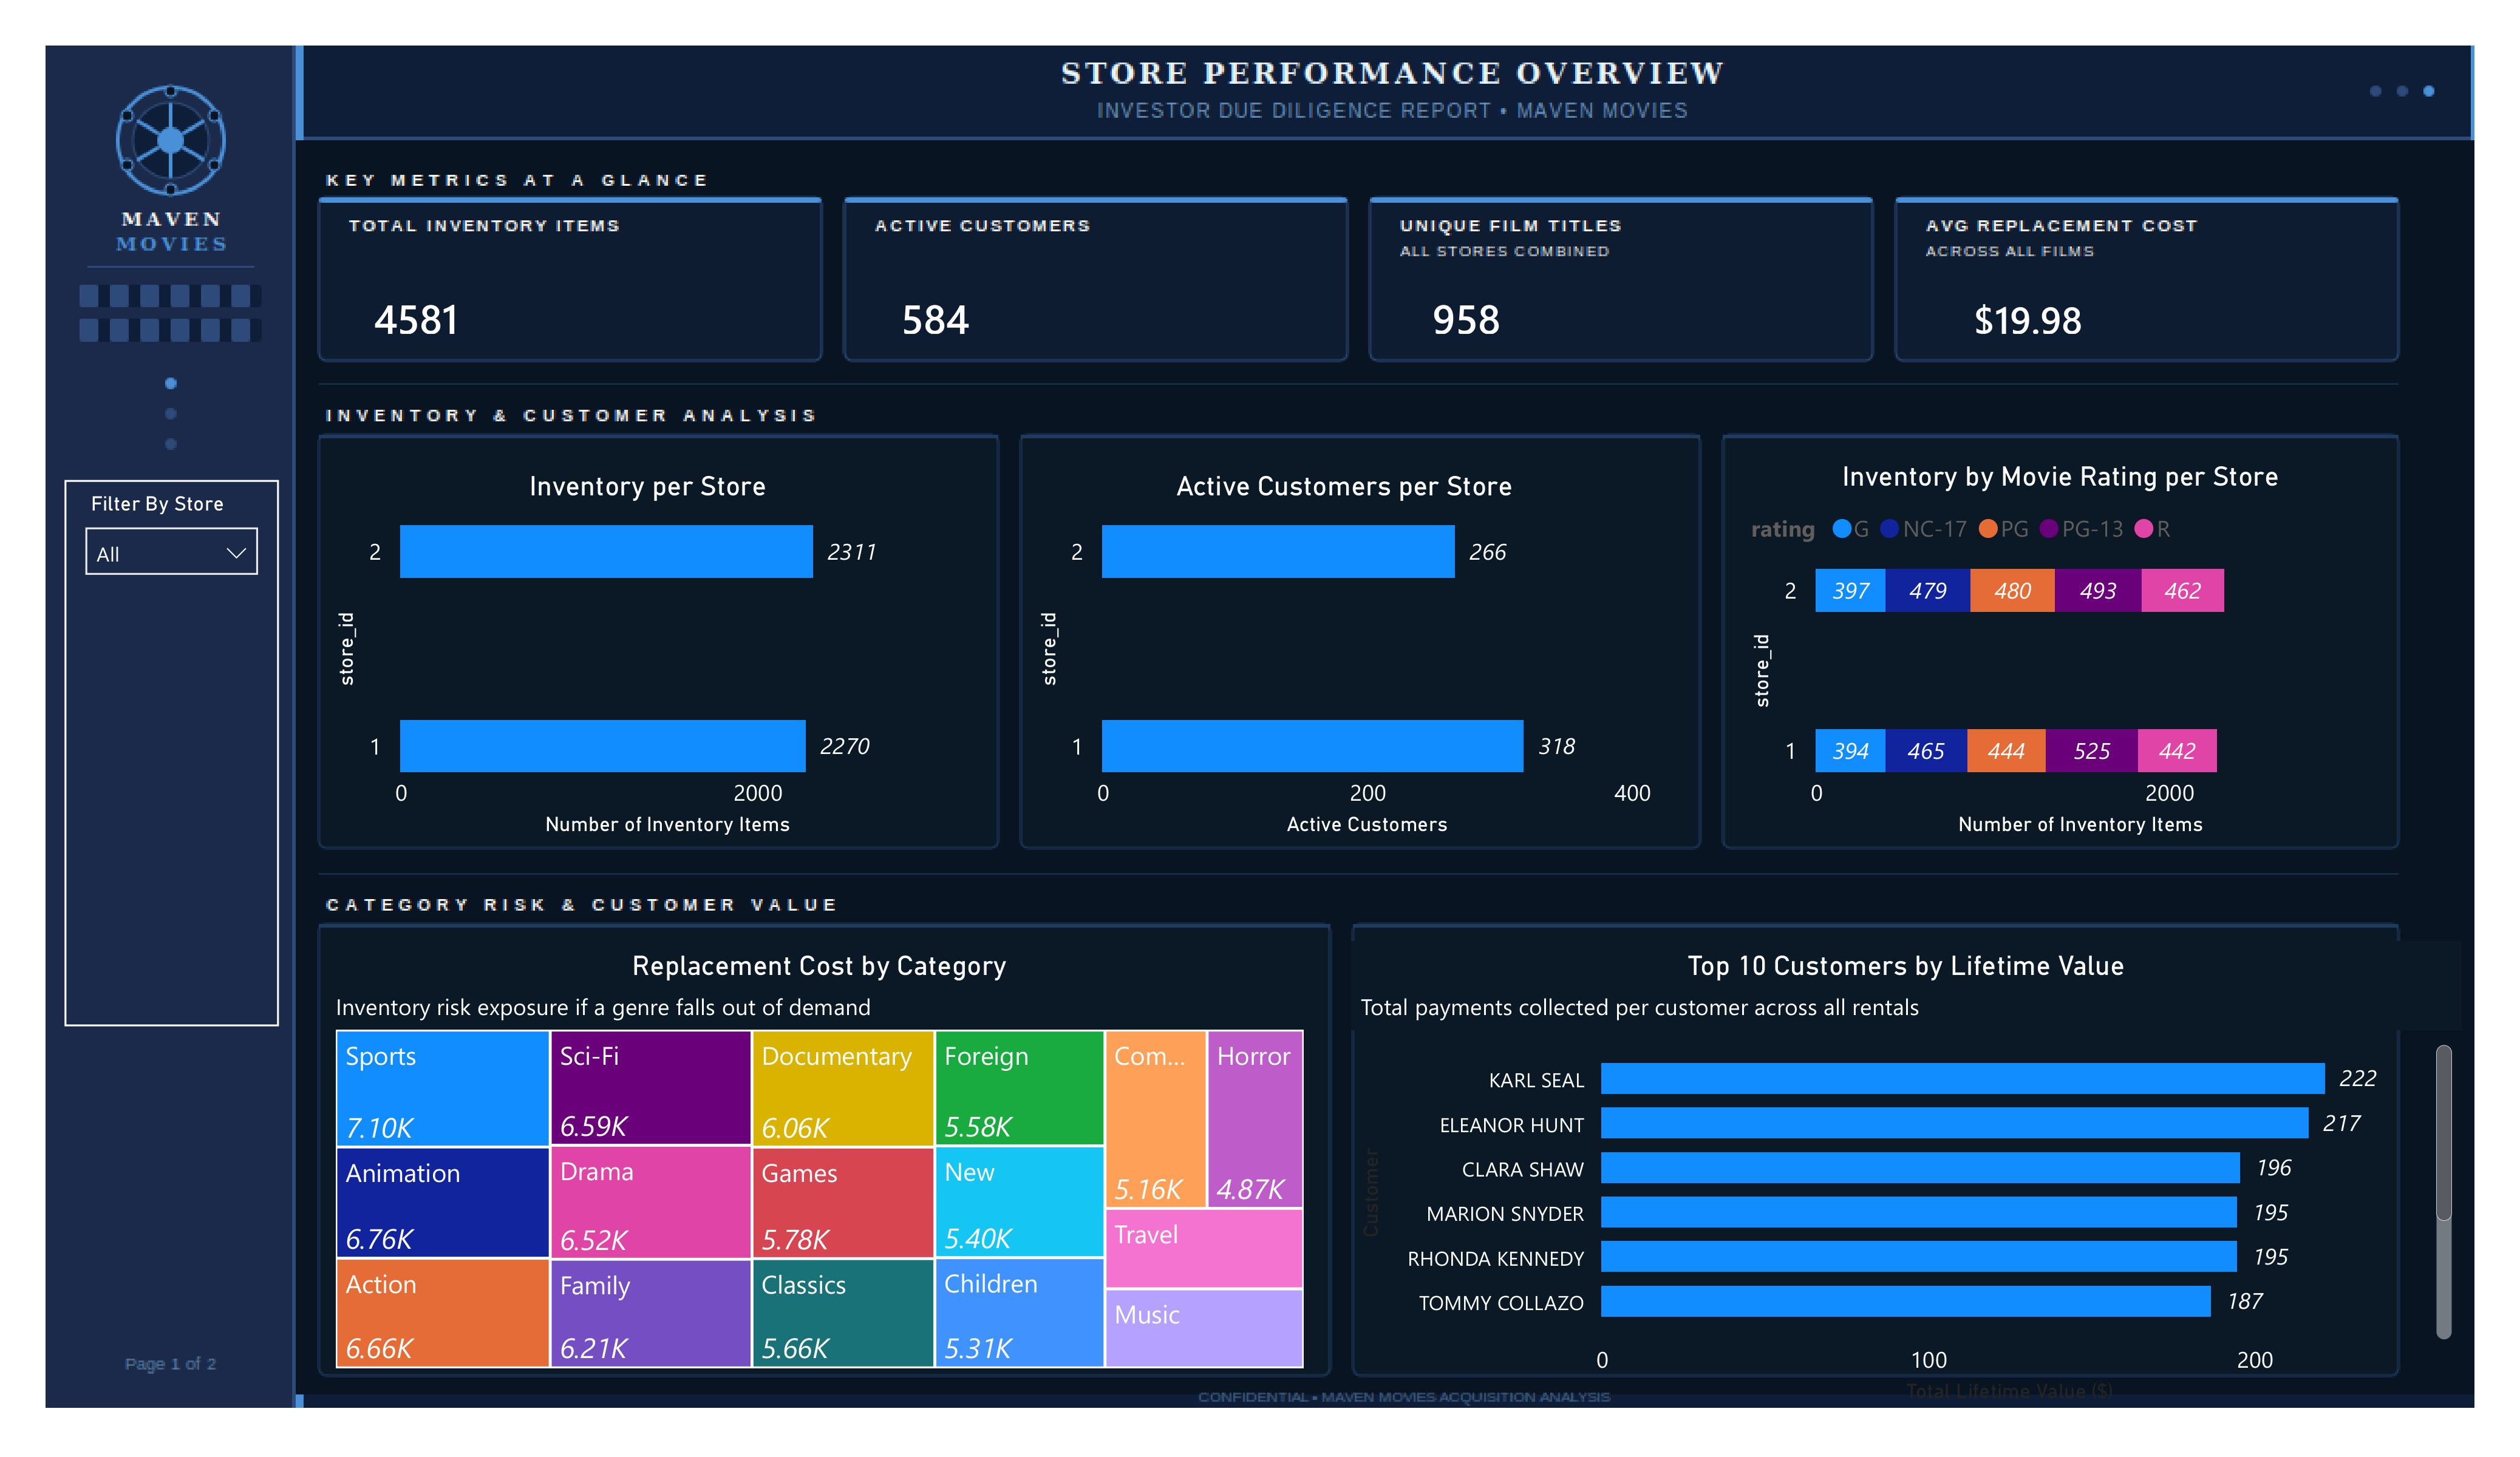

What the dashboard file says about the page in this screenshot:
{"tool":"powerbi","page":{"name":"Store Overview","canvas":[1280,720],"ordinal":0},"visuals":[{"type":"clusteredBarChart","title":"Inventory per Store","fields":{"Category":["inventory_per_store.store_id"],"Y":["Sum(inventory_per_store.inventory_items)"]},"box":[148,219,339,202],"z":0},{"type":"clusteredBarChart","title":"Active Customers per Store","fields":{"Category":["active_customers_per_store.store_id"],"Y":["Sum(active_customers_per_store.active_customers)"]},"box":[518,219,333,202],"z":1000},{"type":"treemap","title":"Replacement Cost by Category","fields":{"Group":["replacement_cost_by_category.category"],"Values":["Sum(replacement_cost_by_category.total_replacement_cost)"]},"box":[148,472,520,230],"z":2000},{"type":"clusteredBarChart","title":"Top 10 Customers by Lifetime Value","fields":{"Y":["Sum(customer_lifetime_value.total_payment_amount)"],"Category":["customer_lifetime_value.full_name"]},"box":[688,472,585,248],"z":3000},{"type":"barChart","title":"Inventory by Movie Rating per Store","fields":{"Y":["Sum(inventory_by_rating.inventory_items)"],"Category":["inventory_by_rating.store_id"],"Series":["inventory_by_rating.rating"]},"box":[894,214,336,207],"z":4000},{"type":"cardVisual","fields":{"Data":["Sum(inventory_per_store.inventory_items)"]},"box":[148,117,109,48],"z":5000},{"type":"cardVisual","fields":{"Data":["Sum(active_customers_per_store.active_customers)"]},"box":[426,117,92,48],"z":6000},{"type":"cardVisual","fields":{"Data":["Sum(unique_films_per_store2.total_unique_films)"]},"box":[706,117,94,48],"z":7000},{"type":"cardVisual","fields":{"Data":["Sum(replacement_cost_stats.avg_replacement_cost)"]},"box":[991,118,106,47],"z":8000},{"type":"slicer","fields":{"Values":["active_customers_per_store.store_id"]},"box":[10,229,113,288],"z":9000}]}

Visuals, with their boxes on the page's 1280x720 design canvas (x1, y1, x2, y2). These are canvas units, not pixel positions in the 2520x1457 screenshot, which may show the page scaled, cropped or inside an application window:
"Inventory per Store" clusteredBarChart: box(148, 219, 487, 421)
"Active Customers per Store" clusteredBarChart: box(518, 219, 851, 421)
"Replacement Cost by Category" treemap: box(148, 472, 668, 702)
"Top 10 Customers by Lifetime Value" clusteredBarChart: box(688, 472, 1273, 720)
"Inventory by Movie Rating per Store" barChart: box(894, 214, 1230, 421)
cardVisual - Sum(inventory_per_store.inventory_items): box(148, 117, 257, 165)
cardVisual - Sum(active_customers_per_store.active_customers): box(426, 117, 518, 165)
cardVisual - Sum(unique_films_per_store2.total_unique_films): box(706, 117, 800, 165)
cardVisual - Sum(replacement_cost_stats.avg_replacement_cost): box(991, 118, 1097, 165)
slicer - active_customers_per_store.store_id: box(10, 229, 123, 517)
